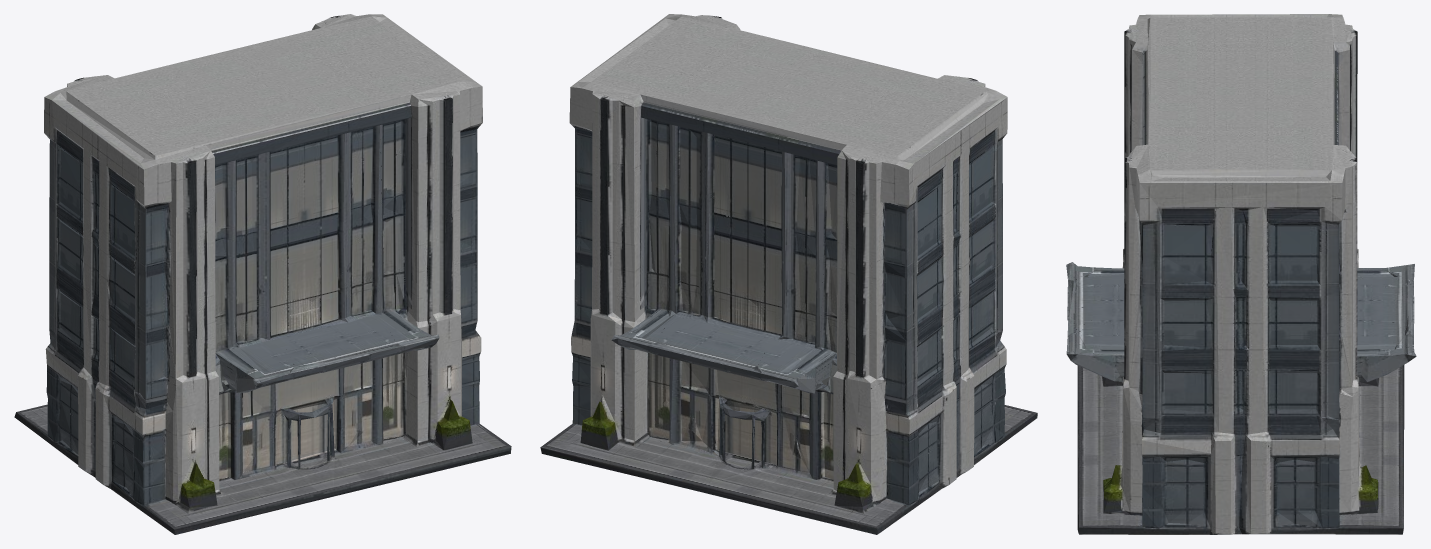
Rendered from tower-base.glb.
The picture shows the model from 3 angles, left to right: view 1: azimuth 30°, elevation 25°; view 2: azimuth 150°, elevation 25°; view 3: azimuth 270°, elevation 25°; orthographic projection. The views are drawn at different scales.
Parts seen in each view (by area): view 1: Mesh_0.001; view 2: Mesh_0.001; view 3: Mesh_0.001.
Part boxes in pixels (box(x1,y1,x2,y2)): Mesh_0.001: box(14, 14, 511, 534); Mesh_0.001: box(540, 14, 1037, 534); Mesh_0.001: box(1066, 14, 1416, 534).
Bounding box in the file's own units: 1 × 0.9691 × 0.8599.
1 material, 1 textured.
